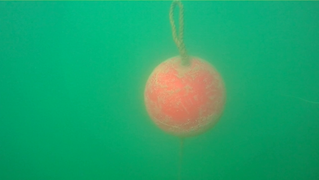buoy: (143, 54, 227, 138)
